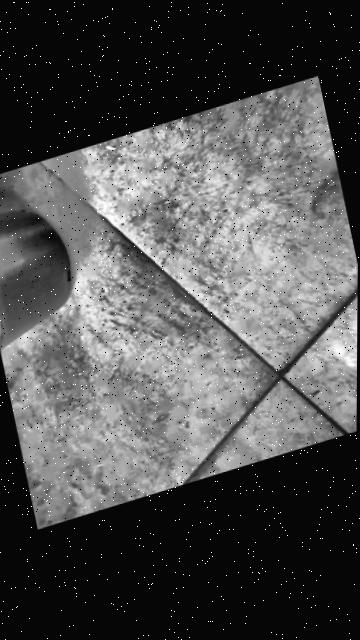pot: (0, 177, 87, 367)
